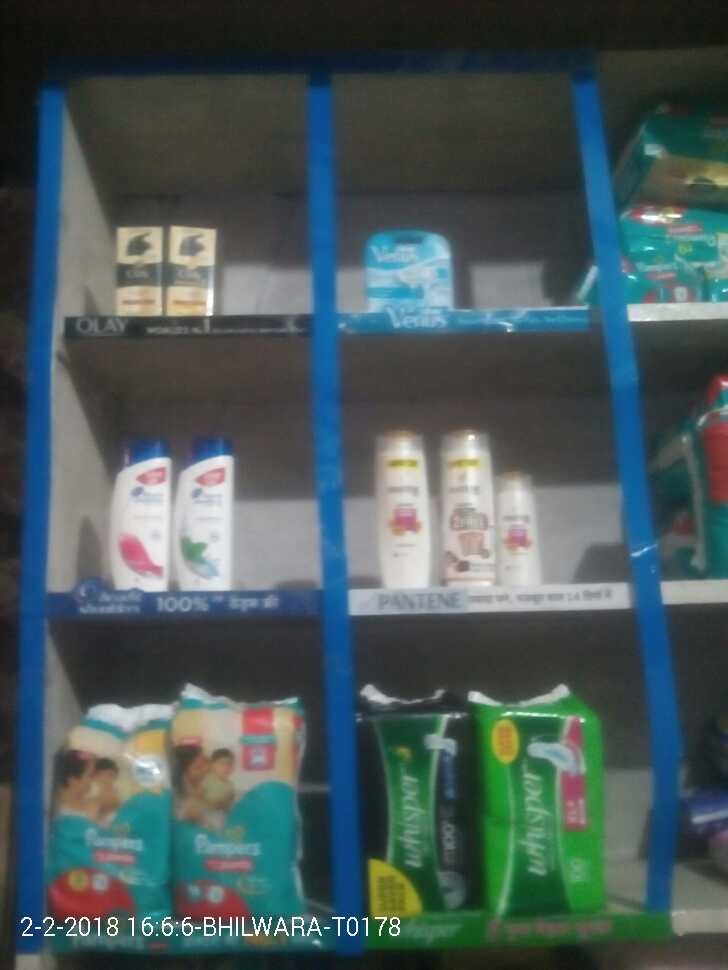venus: (366, 225, 451, 306)
